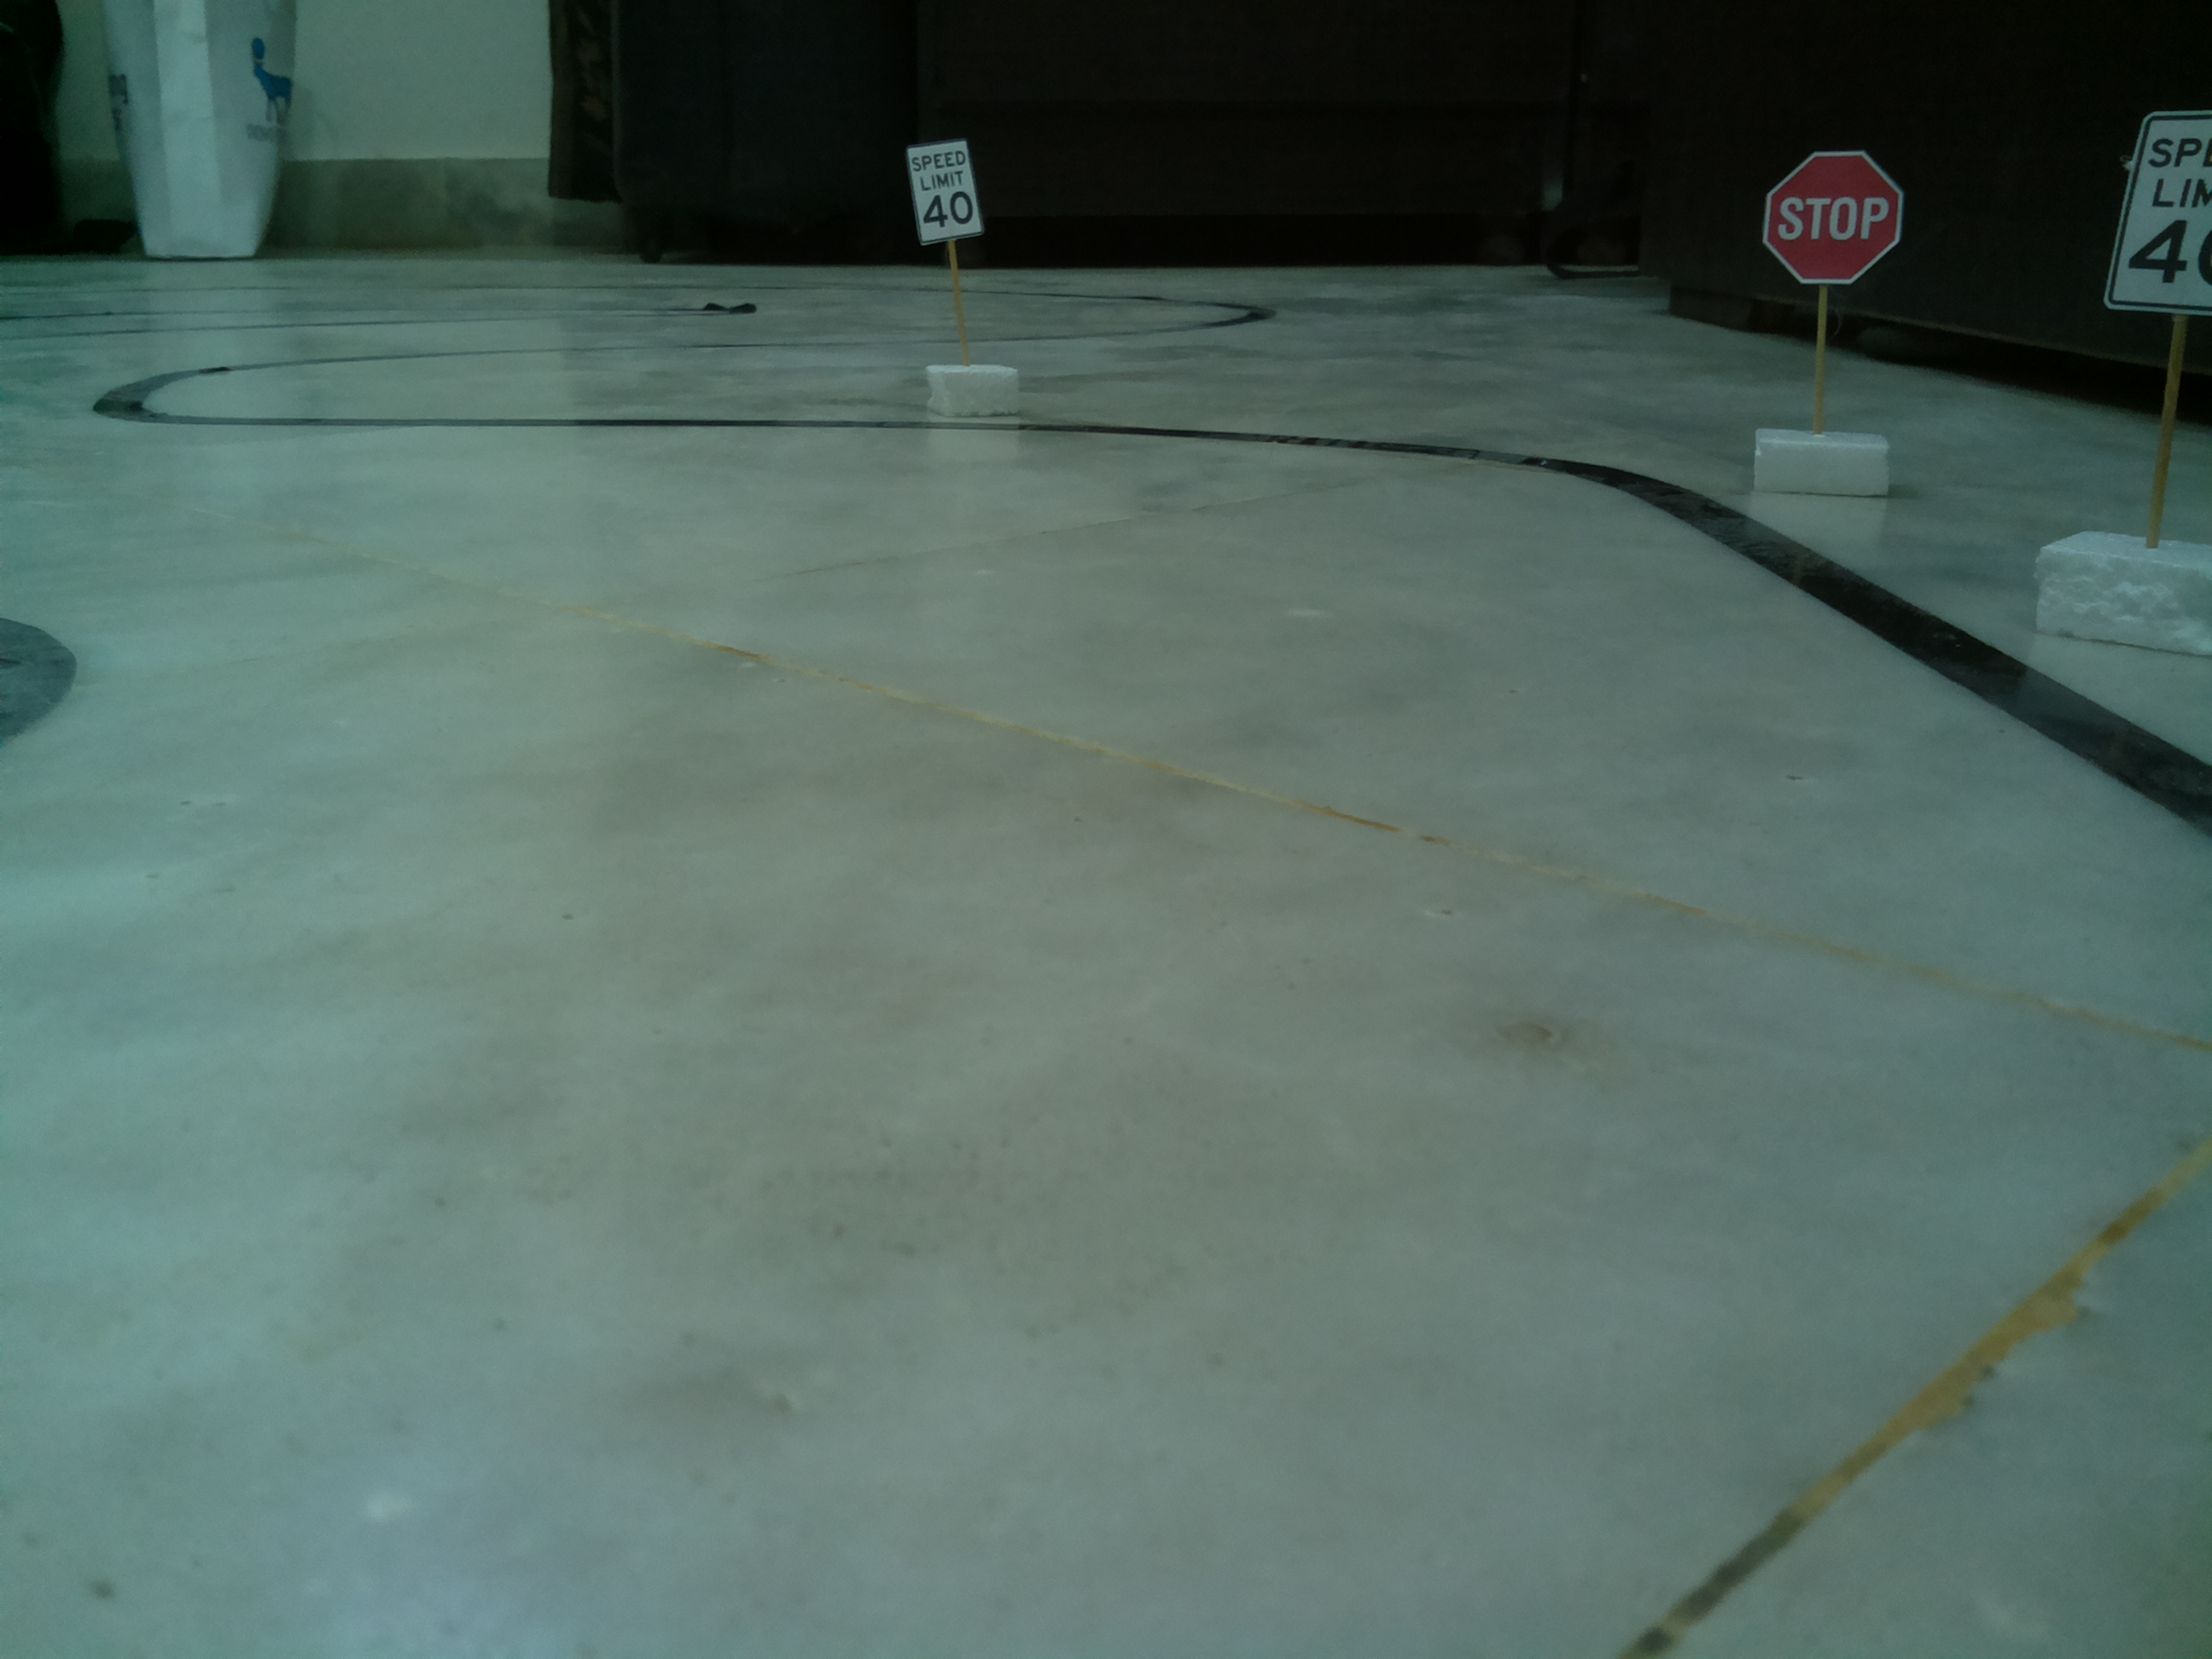Speed limit 40: (2087, 105, 2212, 322), (902, 138, 998, 258)
Stop sign: (1764, 148, 1909, 296)
